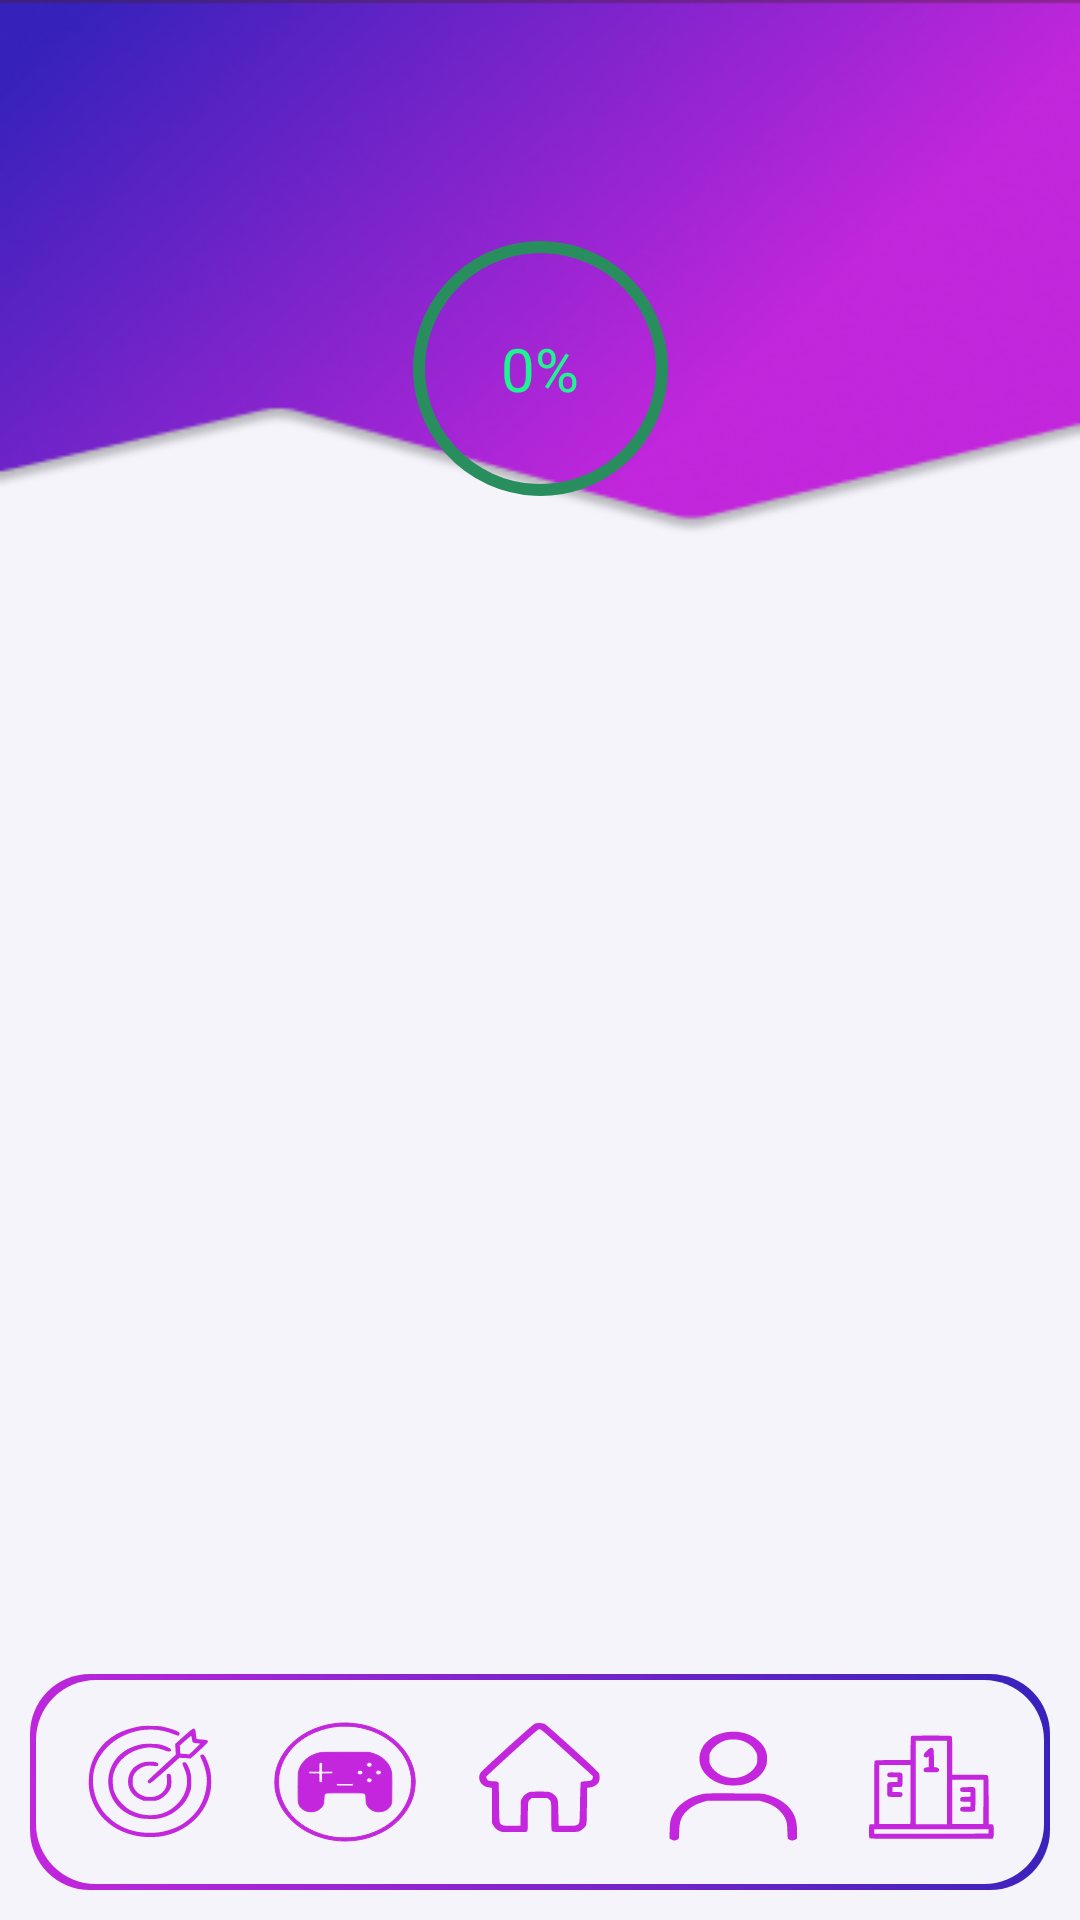

Point at icon controls on the screen. Image size 1080 x 1920, points as point (x, y).
control: point (345, 1782)
home: point (539, 1777)
person: point (733, 1786)
ranking: point (931, 1787)
target: point (150, 1781)
